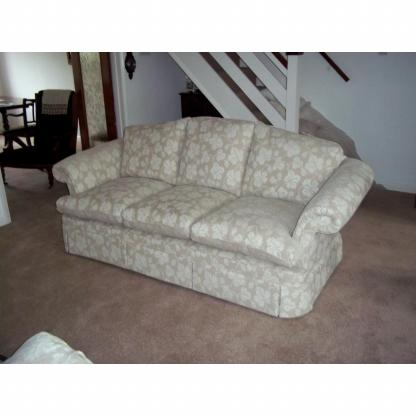Sofa: (54, 116, 374, 319)
